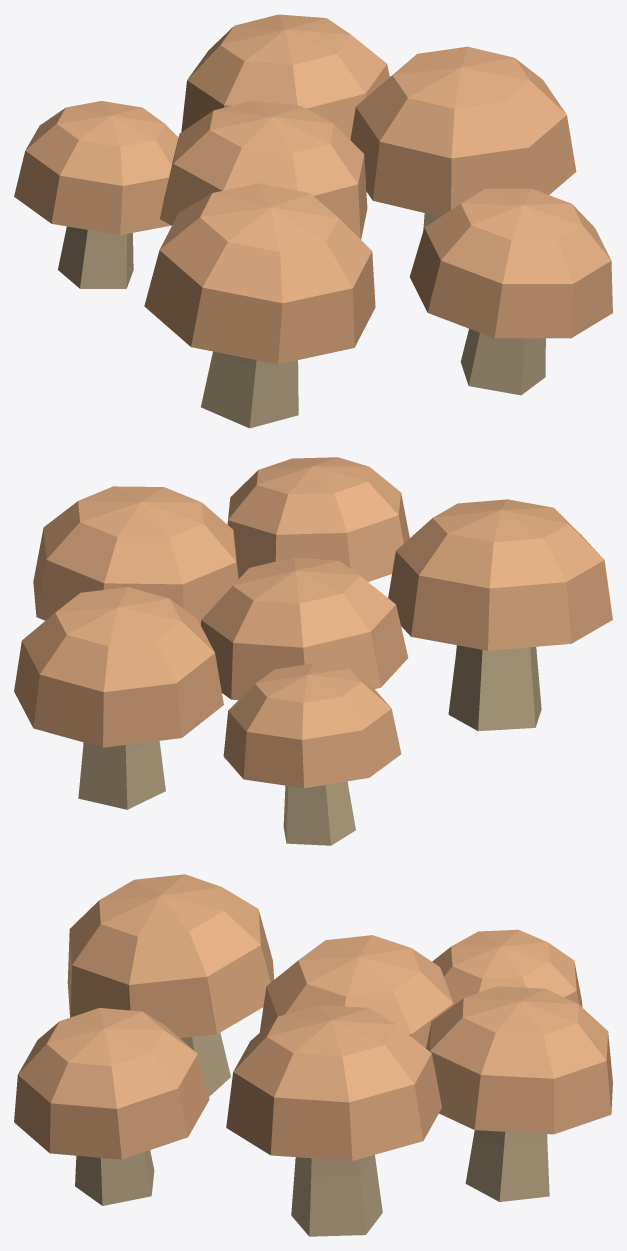
The model's file is plant_nutrifungus_c.obj.
The picture shows the model from 3 angles, top to bottom: view 1: azimuth 30°, elevation 25°; view 2: azimuth 150°, elevation 25°; view 3: azimuth 270°, elevation 25°; orthographic projection. The views are drawn at different scales.
Parts seen in each view (by area): view 1: plant_nutrifungus_c_1, plant_nutrifungus_c_5, plant_nutrifungus_c_3, plant_nutrifungus_c_9, plant_nutrifungus_c_7, plant_nutrifungus_c_11, plant_nutrifungus_c_0, plant_nutrifungus_c_2, plant_nutrifungus_c_8; view 2: plant_nutrifungus_c_1, plant_nutrifungus_c_11, plant_nutrifungus_c_5, plant_nutrifungus_c_7, plant_nutrifungus_c_9, plant_nutrifungus_c_3, plant_nutrifungus_c_0, plant_nutrifungus_c_10, plant_nutrifungus_c_8; view 3: plant_nutrifungus_c_5, plant_nutrifungus_c_1, plant_nutrifungus_c_3, plant_nutrifungus_c_11, plant_nutrifungus_c_7, plant_nutrifungus_c_9, plant_nutrifungus_c_4, plant_nutrifungus_c_10, plant_nutrifungus_c_2, plant_nutrifungus_c_0.
Boxes of the visible parts, x1=… form: plant_nutrifungus_c_1: x1=144, y1=183, x2=375, y2=364; plant_nutrifungus_c_5: x1=350, y1=46, x2=576, y2=216; plant_nutrifungus_c_3: x1=409, y1=188, x2=612, y2=338; plant_nutrifungus_c_9: x1=14, y1=101, x2=178, y2=235; plant_nutrifungus_c_7: x1=160, y1=100, x2=367, y2=239; plant_nutrifungus_c_11: x1=181, y1=14, x2=389, y2=139; plant_nutrifungus_c_0: x1=201, y1=351, x2=298, y2=428; plant_nutrifungus_c_2: x1=460, y1=328, x2=545, y2=395; plant_nutrifungus_c_8: x1=58, y1=226, x2=133, y2=288; plant_nutrifungus_c_1: x1=388, y1=499, x2=612, y2=650; plant_nutrifungus_c_11: x1=14, y1=587, x2=223, y2=747; plant_nutrifungus_c_5: x1=33, y1=486, x2=238, y2=624; plant_nutrifungus_c_7: x1=201, y1=557, x2=408, y2=700; plant_nutrifungus_c_9: x1=223, y1=663, x2=401, y2=788; plant_nutrifungus_c_3: x1=227, y1=457, x2=409, y2=581; plant_nutrifungus_c_0: x1=448, y1=645, x2=541, y2=731; plant_nutrifungus_c_10: x1=78, y1=741, x2=165, y2=809; plant_nutrifungus_c_8: x1=283, y1=781, x2=355, y2=845; plant_nutrifungus_c_5: x1=226, y1=1004, x2=441, y2=1160; plant_nutrifungus_c_1: x1=67, y1=874, x2=274, y2=1038; plant_nutrifungus_c_3: x1=14, y1=1008, x2=209, y2=1159; plant_nutrifungus_c_11: x1=426, y1=986, x2=612, y2=1134; plant_nutrifungus_c_7: x1=259, y1=935, x2=453, y2=1048; plant_nutrifungus_c_9: x1=432, y1=929, x2=582, y2=1007; plant_nutrifungus_c_4: x1=291, y1=1155, x2=382, y2=1236; plant_nutrifungus_c_10: x1=465, y1=1130, x2=549, y2=1201; plant_nutrifungus_c_2: x1=75, y1=1150, x2=154, y2=1205; plant_nutrifungus_c_0: x1=180, y1=1033, x2=230, y2=1096.
Size of the model in its own units: 1.26 by 0.5335 by 1.43.
